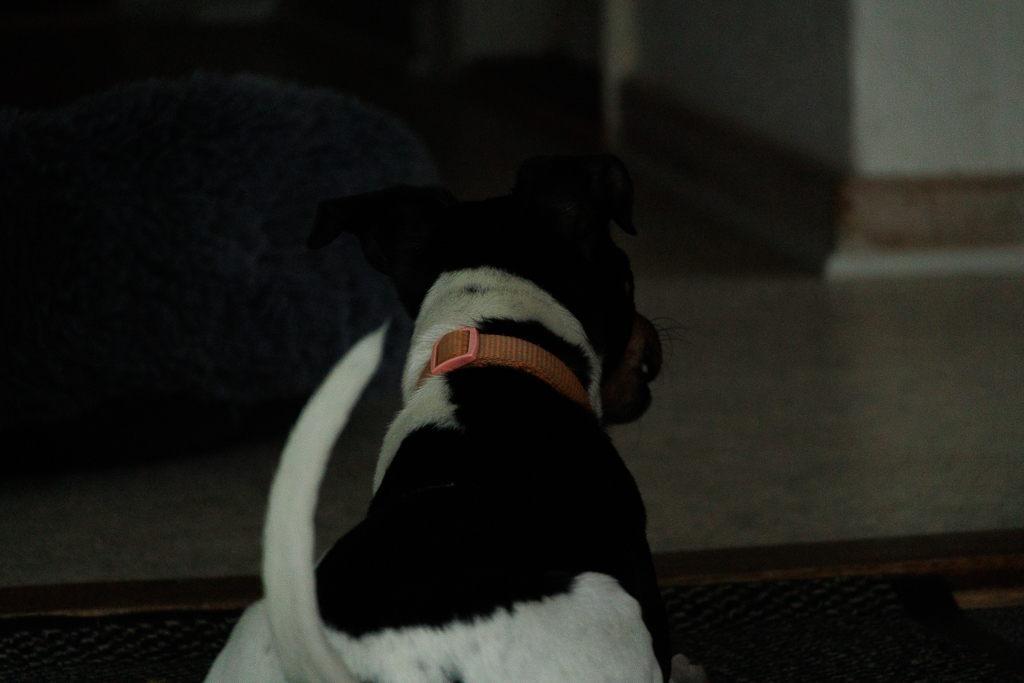Dog: (196, 141, 725, 683)
